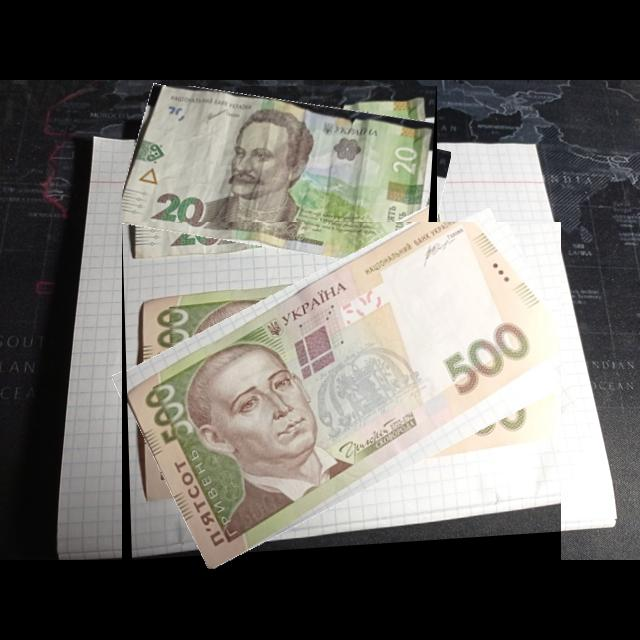20uah: (122, 86, 435, 270)
500uah: (127, 222, 562, 571)
